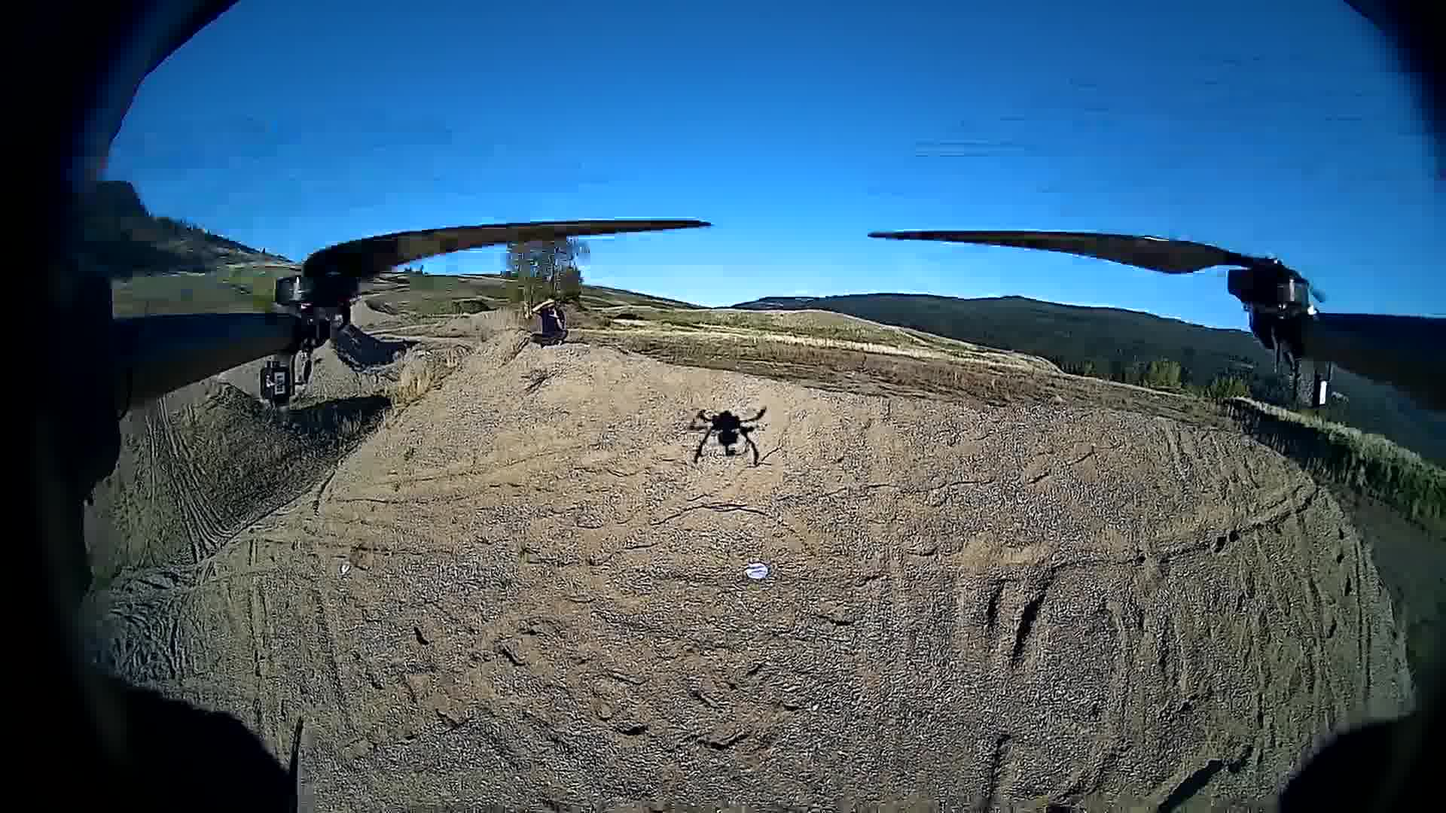Target: (744, 562, 767, 580)
